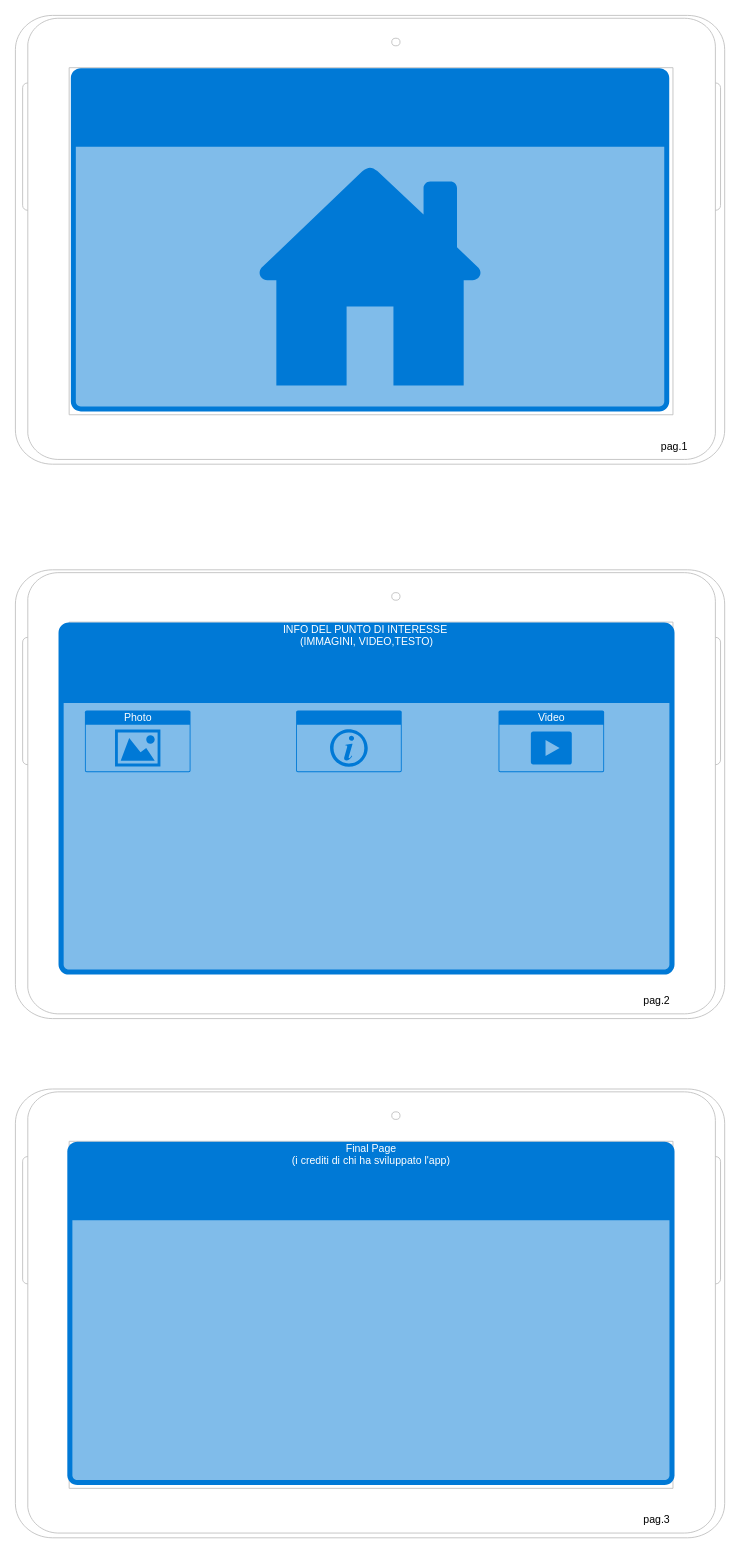
The diagram is 740 pixels wide and 1553 high, and some of its shapes have lost their labels. The shapes that lost their labels are listed below. From the top down, each one's centre as x and y in pixels, then its label:
At pixel 369 239: "Homepage (Dove verrà scannerizzato il codice QR)".
At pixel 348 741: "Info".
